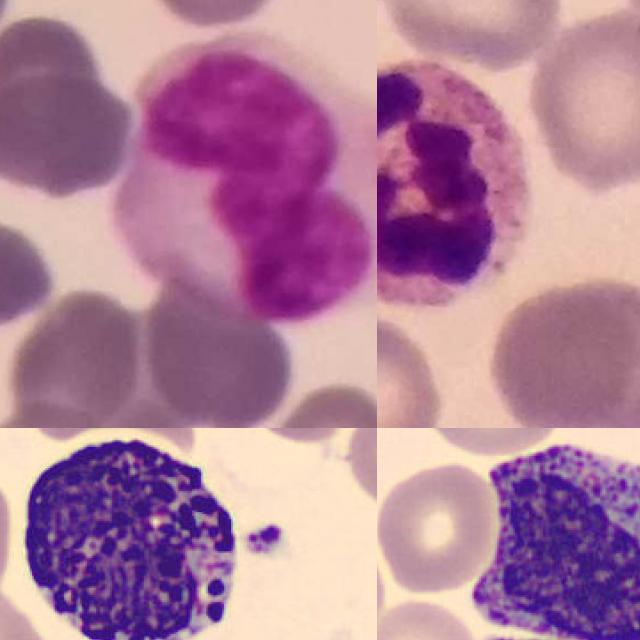Basophil: (9, 428, 249, 640), (459, 434, 640, 640)
Monocyte: (116, 34, 377, 321)
Neutrophil: (377, 60, 532, 309)
Platelets: (242, 517, 290, 560)
RBC: (377, 456, 502, 597), (377, 595, 481, 640), (411, 428, 571, 457), (337, 428, 377, 519)
